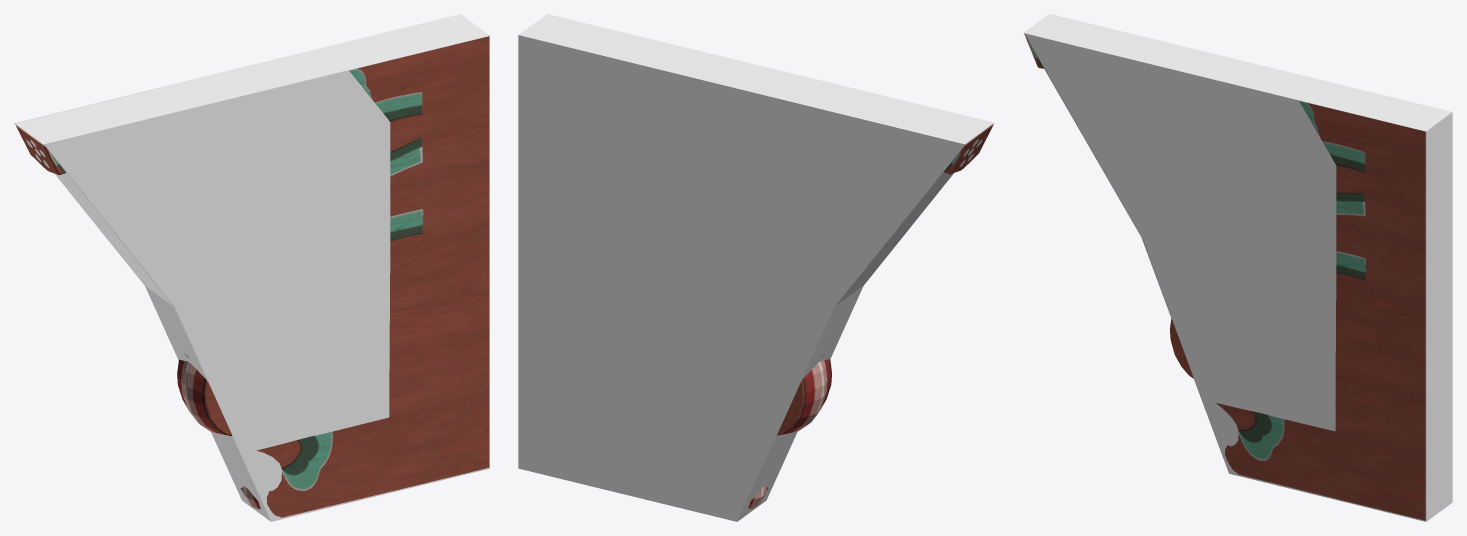
The model's file is SM_GCM_GongpoC.fbx.
The picture shows the model from 3 angles, left to right: view 1: azimuth 30°, elevation 25°; view 2: azimuth 150°, elevation 25°; view 3: azimuth 330°, elevation 25°; orthographic projection. The views are drawn at different scales.
Visible parts, largest first — view 1: SM_GCM_GongpoC_ConvexHulls, SM_GCM_GongpoC; view 2: SM_GCM_GongpoC_ConvexHulls, SM_GCM_GongpoC; view 3: SM_GCM_GongpoC_ConvexHulls, SM_GCM_GongpoC.
Boxes of the visible parts, <box> form: SM_GCM_GongpoC_ConvexHulls: <box>14,14,489,521</box>; SM_GCM_GongpoC: <box>16,36,489,517</box>; SM_GCM_GongpoC_ConvexHulls: <box>518,14,994,521</box>; SM_GCM_GongpoC: <box>748,125,993,508</box>; SM_GCM_GongpoC_ConvexHulls: <box>1023,14,1452,521</box>; SM_GCM_GongpoC: <box>1025,36,1425,520</box>.
Size of the model in its own units: 78.01 by 72.31 by 8.87.
2 materials, 1 textured.
